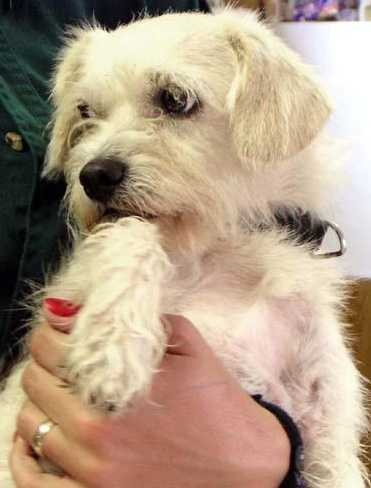Dog: (7, 7, 362, 468)
